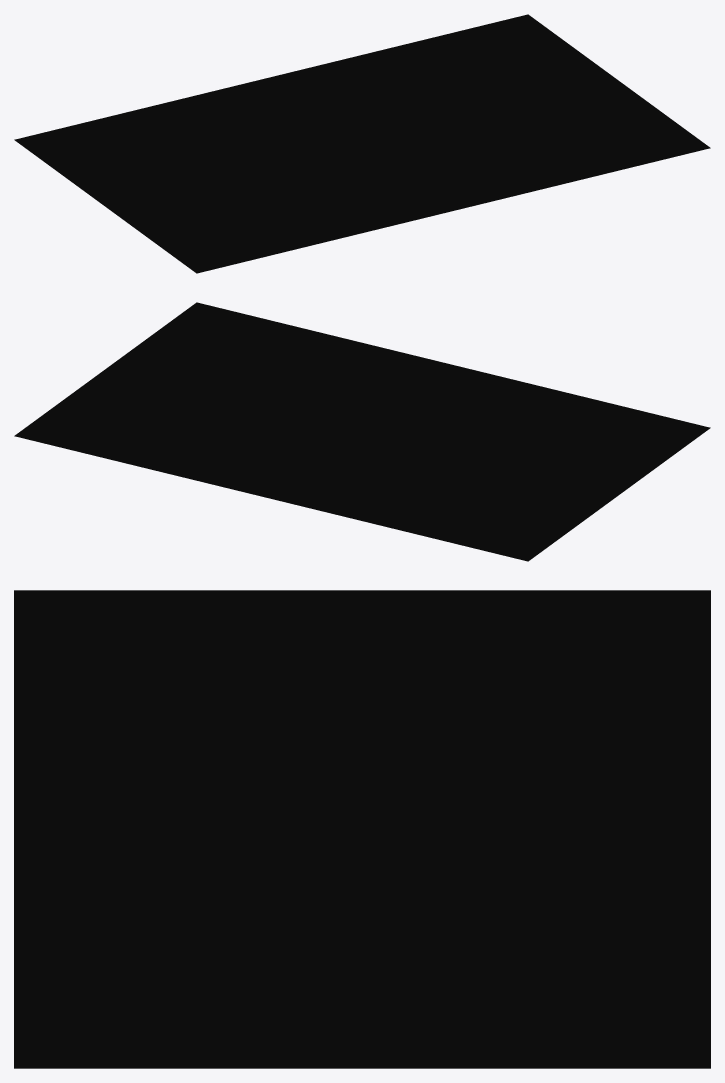
The model's file is hob base.fbx.
The picture shows the model from 3 angles, top to bottom: view 1: azimuth 30°, elevation 25°; view 2: azimuth 150°, elevation 25°; view 3: azimuth 270°, elevation 25°; orthographic projection. The views are drawn at different scales.
Visible parts, largest first — view 1: hob_base; view 2: hob_base; view 3: hob_base.
Part boxes in pixels (<box>): hob_base: <box>14,14,710,273</box>; hob_base: <box>14,302,710,561</box>; hob_base: <box>14,590,710,1068</box>.
Size of the model in its own units: 192 by 0 by 118.
1 material, 1 textured.
